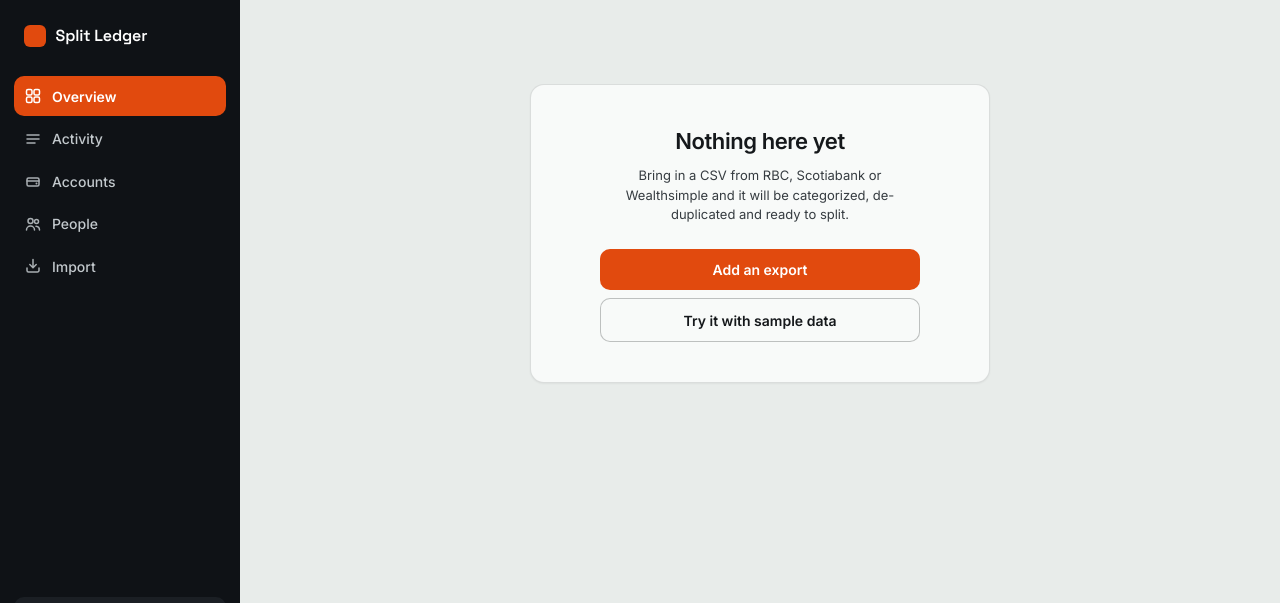
Test: App › keeps the copilot honest when no provider is configured
The image size is (1280, 603).
Click the button "Try it with sample data" at coordinates (760, 320), box [600,298,920,342]
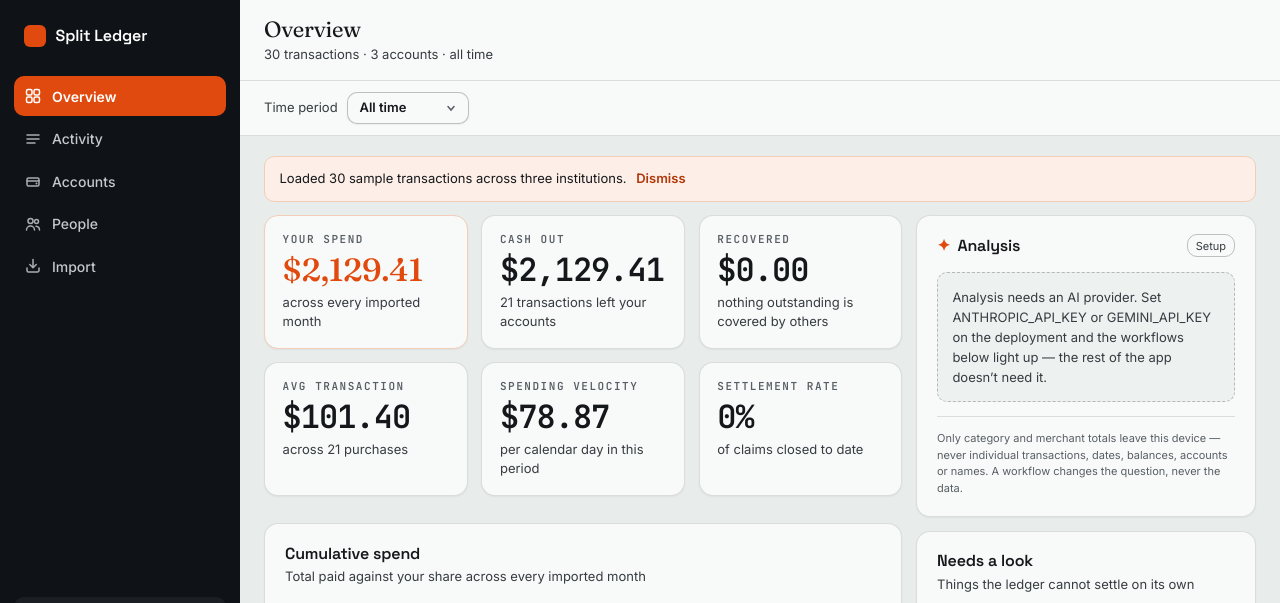
Check: the text "ANTHROPIC_API_KEY or GEMINI_API_KEY" is shown, box [952,309,1211,325]
